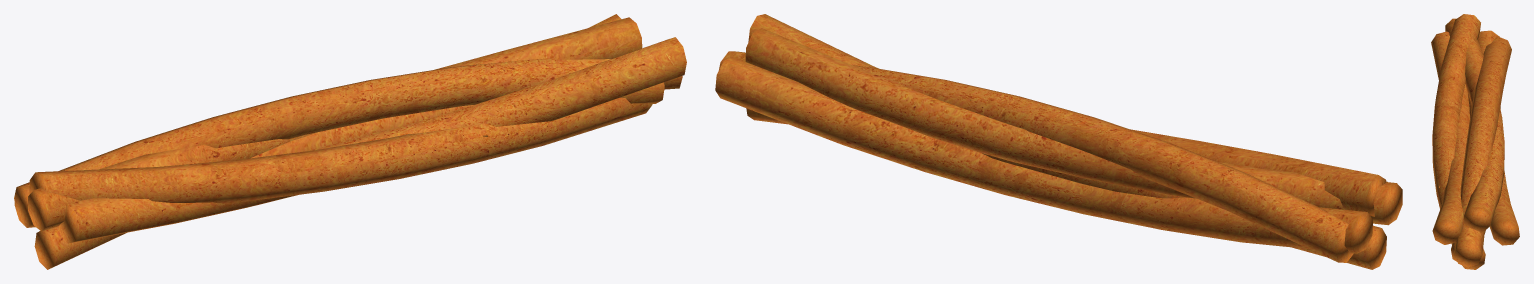
The model's file is Muscle_Textured.fbx.
The picture shows the model from 3 angles, left to right: view 1: azimuth 30°, elevation 25°; view 2: azimuth 150°, elevation 25°; view 3: azimuth 270°, elevation 25°; orthographic projection. The views are drawn at different scales.
Parts seen in each view (by area): view 1: pCylinder10; view 2: pCylinder10; view 3: pCylinder10.
Part boxes in pixels (x1,y1,x2,y2): pCylinder10: (14,14,686,269); pCylinder10: (715,14,1402,269); pCylinder10: (1431,14,1519,269).
Size of the model in its own units: 9.01 by 1.26 by 1.6.
